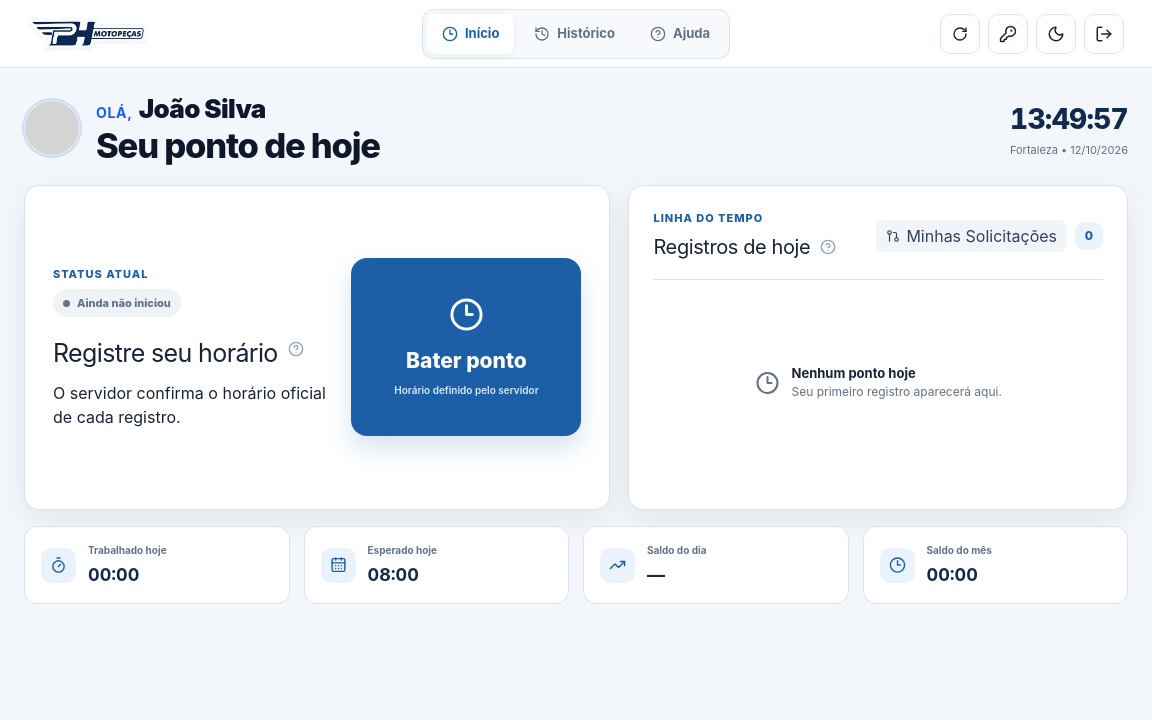
it: PH-Ponto employee application › registers a punch and shows only the authoritative server timestamp
What coordinates should you click on to do the following:
click the button "Bater ponto"
I would click on:
 (466, 347)
Its box is [351,258,581,436].
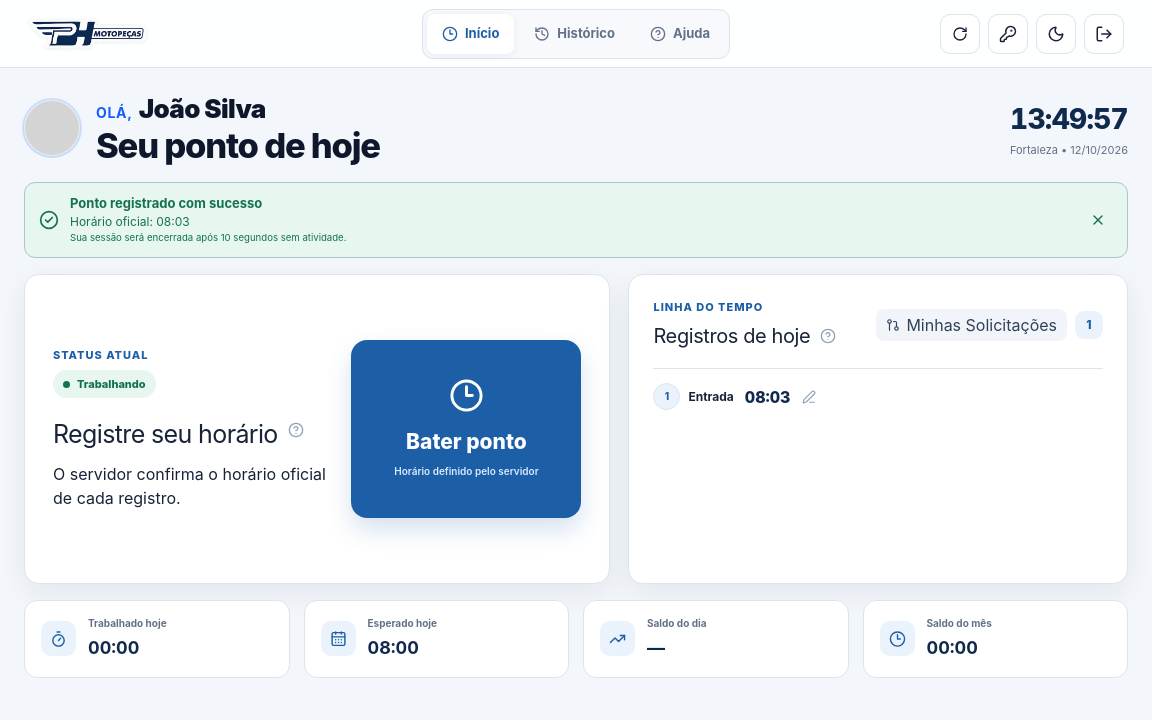
Result: the text "Ponto registrado com sucesso" is shown at [70,195,262,211]
Result: the text "Horário oficial: 08:03" is shown at [70,195,346,243]
Result: the text "Trabalhando" is shown at [53,370,156,398]
